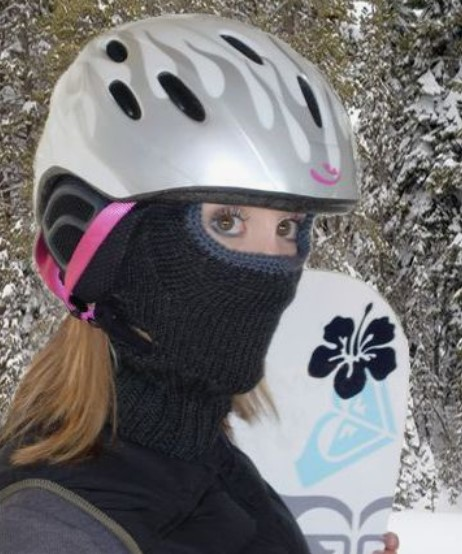face_with_mask: (138, 165, 325, 395)
